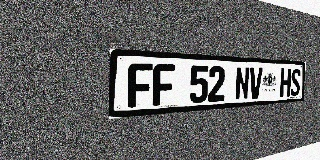2: (208, 66, 225, 102)
5: (190, 65, 209, 103)
F: (128, 63, 153, 108), (153, 64, 175, 106)
H: (280, 68, 291, 97)
N: (235, 67, 250, 100)
S: (290, 69, 301, 96)
V: (249, 67, 263, 99)
